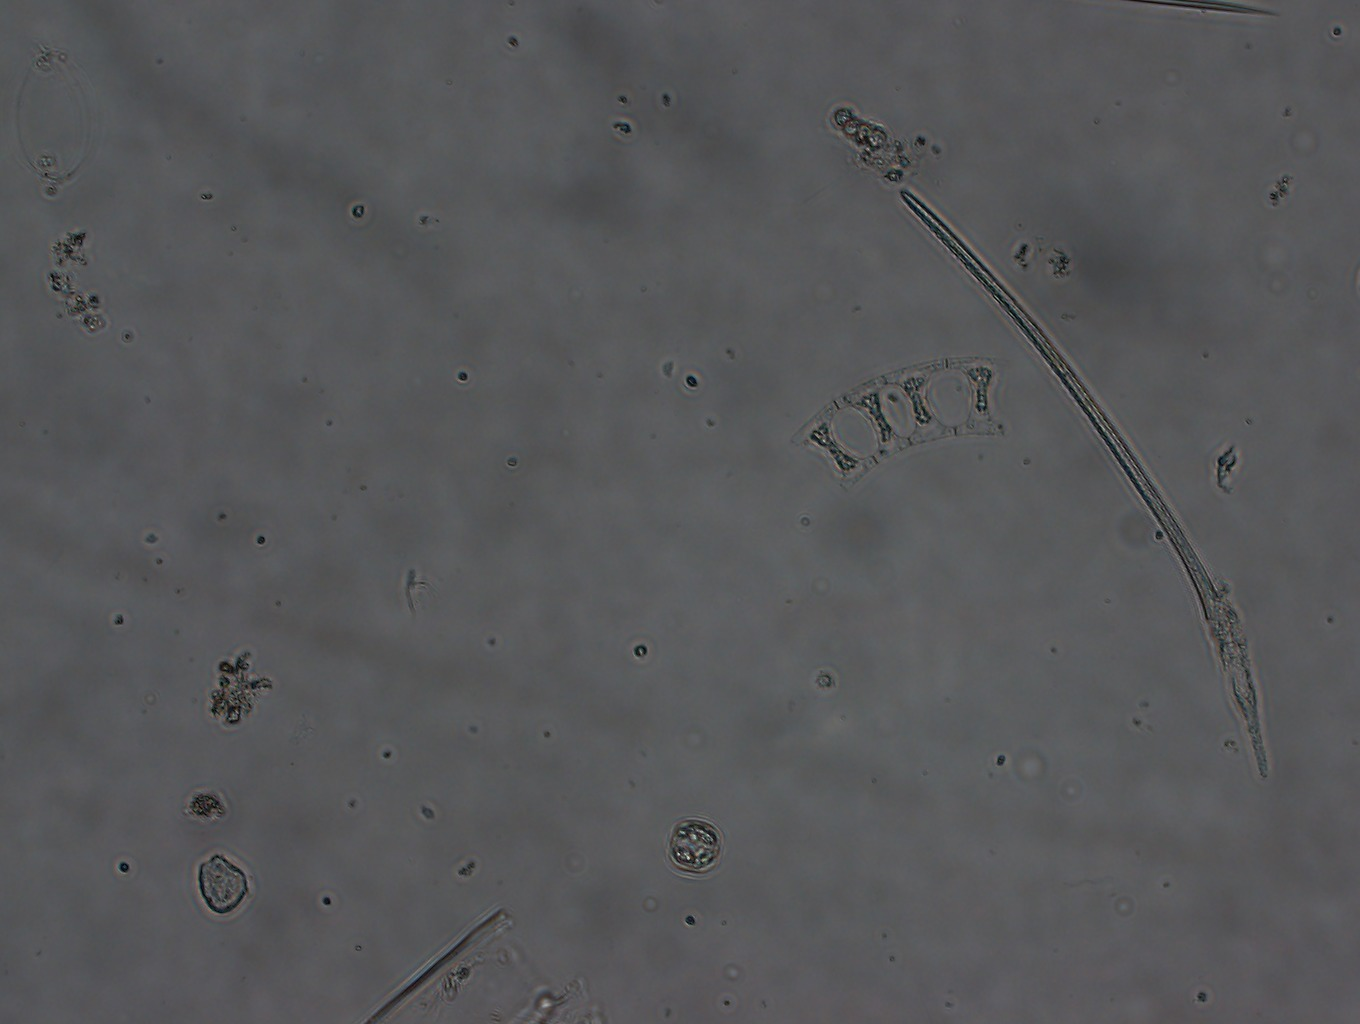ceratium fusus: (899, 191, 1276, 791)
eucampia: (782, 349, 1017, 492)
